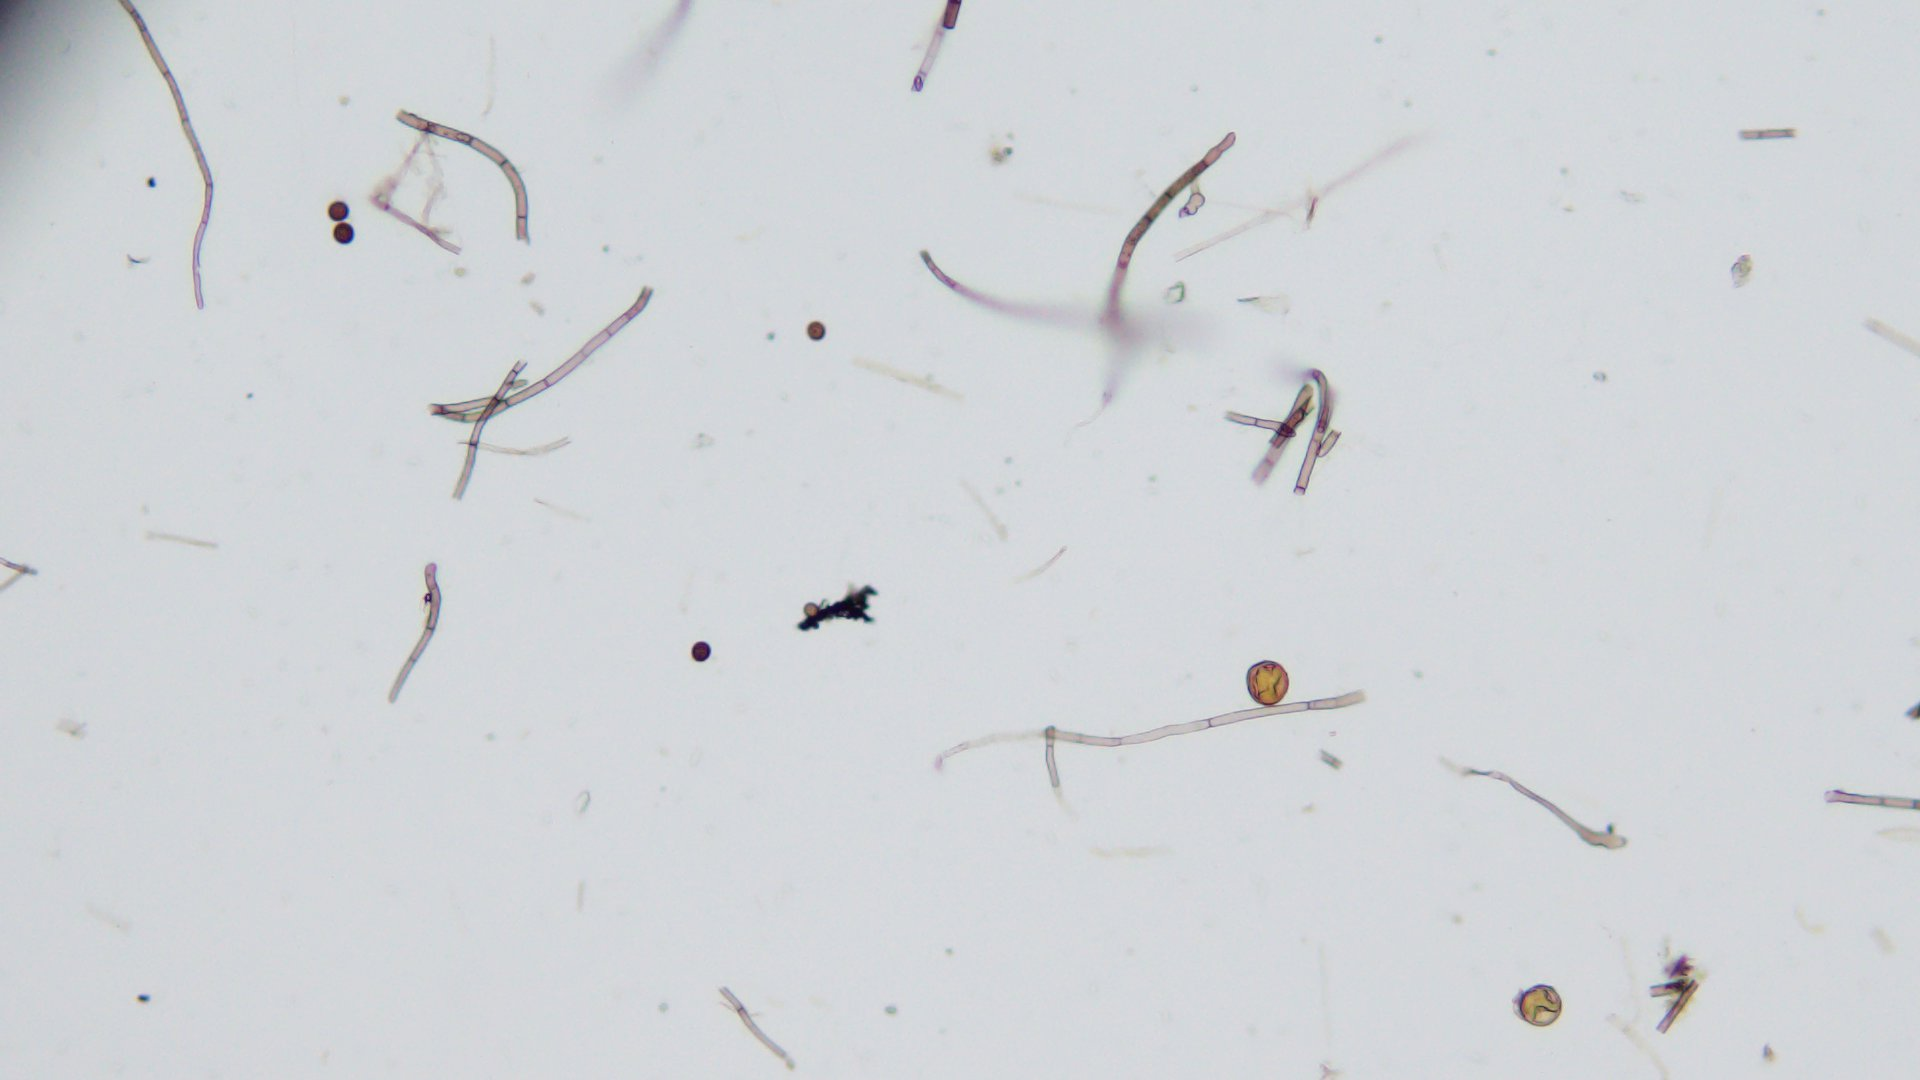shs_spore: (331, 224, 356, 244), (326, 200, 348, 222), (690, 642, 711, 663), (806, 322, 825, 342)
xb_spore: (1246, 659, 1291, 705), (1516, 986, 1563, 1026)
